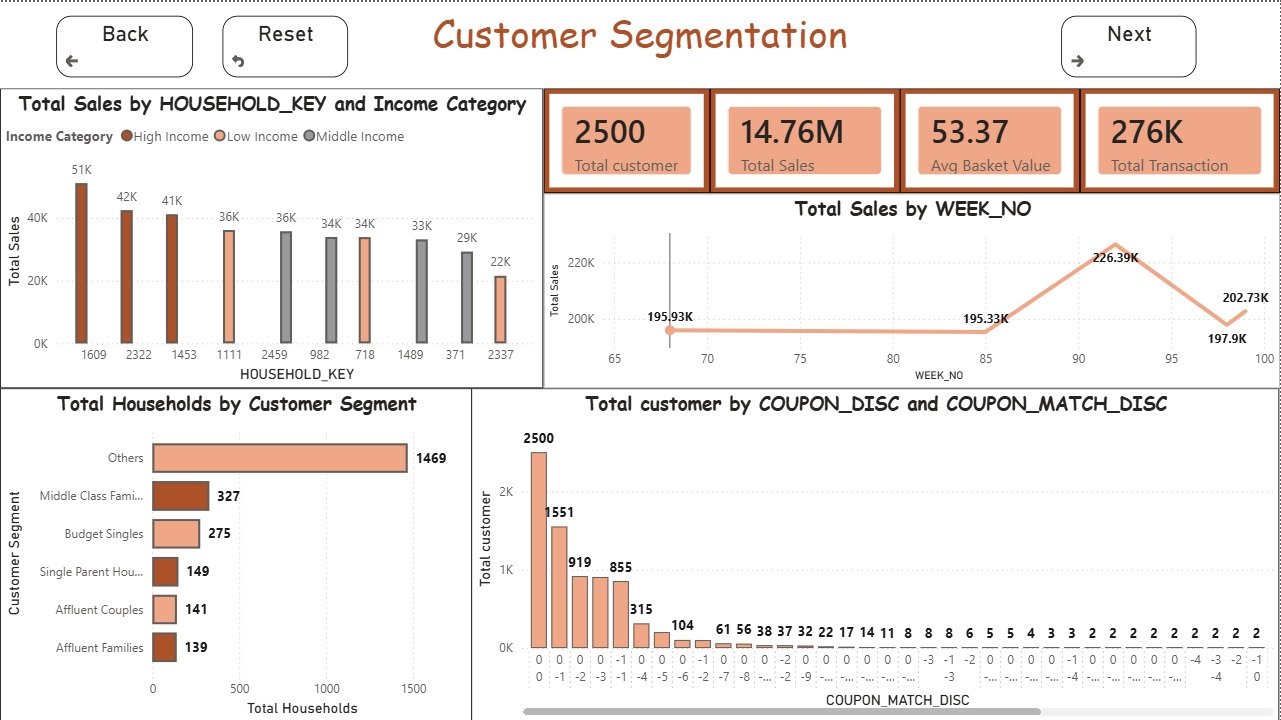

Layout of this report page (visuals, bound fields, positions):
{"tool":"powerbi","page":{"name":"Customer Segmentation Analysis","canvas":[1280,720],"ordinal":7},"visuals":[{"type":"clusteredBarChart","fields":{"Category":["hh_demographic.Customer Segment"],"Y":["KPI.Total Households"]},"box":[0,386.2,471.9,334],"z":0},{"type":"clusteredColumnChart","fields":{"Category":["Transaction.COUPON_DISC","Transaction.COUPON_MATCH_DISC"],"Y":["Transaction.Total customer"]},"box":[471.9,386.2,808.4,334],"z":1000},{"type":"lineChart","fields":{"Category":["Transaction.WEEK_NO"],"Y":["KPI.Total Sales"]},"box":[543.3,191.7,736.7,195],"z":2000},{"type":"cardVisual","fields":{"Data":["Transaction.Total customer"]},"box":[543.3,86.7,166.7,105],"z":3000},{"type":"clusteredColumnChart","fields":{"Category":["Transaction.HOUSEHOLD_KEY"],"Y":["KPI.Total Sales"],"Series":["hh_demographic.Income Category"]},"box":[0,86.7,543.3,300],"z":4000},{"type":"cardVisual","fields":{"Data":["Transaction.Total Transaction"]},"box":[1080,86.7,200,105],"z":5000},{"type":"cardVisual","fields":{"Data":["KPI.Avg Basket Value"]},"box":[900,86.7,180,105],"z":6000},{"type":"cardVisual","fields":{"Data":["KPI.Total Sales"]},"box":[710,86.7,190,105],"z":7000},{"type":"textbox","box":[0,0,1280,86.7],"z":8000},{"type":"actionButton","title":"Next ","box":[1061.7,13.3,135,61.7],"z":9000},{"type":"actionButton","title":"Back","box":[56.7,13.3,136.7,61.7],"z":10000},{"type":"actionButton","title":"Reset","box":[222.6,13.9,125.2,61.2],"z":10001}]}

Visuals, with their boxes in screenshot pixels (x1, y1, x2, y2), scaled from the page's 1280x720 canvas onto the 1281x720 screenshot:
clusteredBarChart - hh_demographic.Customer Segment x KPI.Total Households: pyautogui.locateOnScreen(0, 386, 472, 719)
clusteredColumnChart - Transaction.COUPON_DISC x Transaction.COUPON_MATCH_DISC: pyautogui.locateOnScreen(472, 386, 1280, 719)
lineChart - Transaction.WEEK_NO x KPI.Total Sales: pyautogui.locateOnScreen(544, 192, 1280, 387)
cardVisual - Transaction.Total customer: pyautogui.locateOnScreen(544, 87, 711, 192)
clusteredColumnChart - Transaction.HOUSEHOLD_KEY x KPI.Total Sales: pyautogui.locateOnScreen(0, 87, 544, 387)
cardVisual - Transaction.Total Transaction: pyautogui.locateOnScreen(1081, 87, 1280, 192)
cardVisual - KPI.Avg Basket Value: pyautogui.locateOnScreen(901, 87, 1081, 192)
cardVisual - KPI.Total Sales: pyautogui.locateOnScreen(711, 87, 901, 192)
textbox: pyautogui.locateOnScreen(0, 0, 1280, 87)
"Next " actionButton: pyautogui.locateOnScreen(1063, 13, 1198, 75)
"Back" actionButton: pyautogui.locateOnScreen(57, 13, 194, 75)
"Reset" actionButton: pyautogui.locateOnScreen(223, 14, 348, 75)
